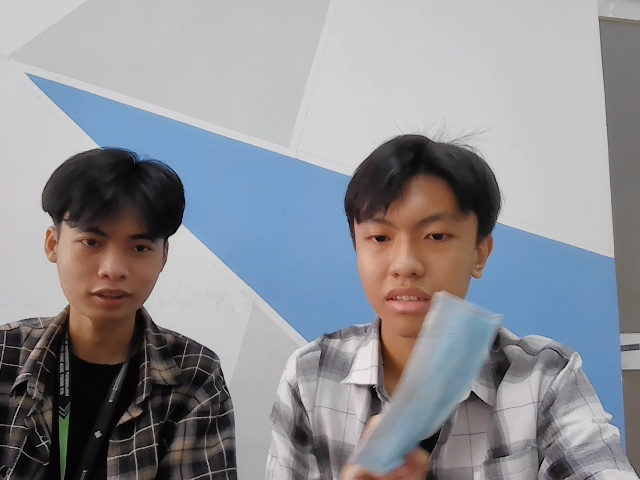human: (344, 135, 497, 325), (37, 149, 192, 317)
mask: (363, 281, 508, 470)
